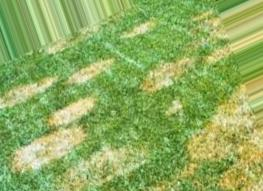patch: (222, 87, 256, 134), (184, 132, 218, 162), (89, 144, 144, 160), (18, 137, 61, 157), (198, 16, 229, 36), (7, 85, 46, 100), (144, 69, 179, 83), (53, 101, 76, 120), (225, 160, 244, 181), (123, 28, 156, 36), (68, 74, 95, 83)
